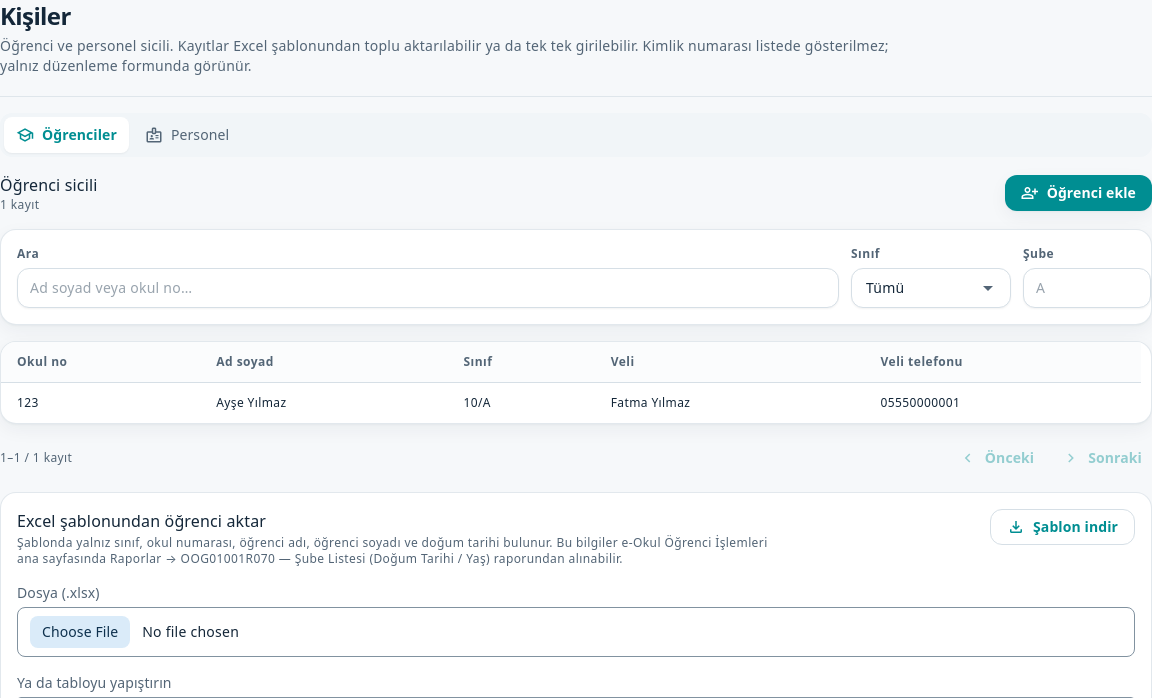
Test: KisilerPage — öğrenci ekleme/düzenleme/silme › satıra tıklama düzenleme formunu açar; TCKN yalnız burada görünür
expect the text "Ayşe Yılmaz" is shown: met, box left=200, top=382, right=447, bottom=423
Click the button with aria-label "Ayşe Yılmaz kaydını düzenle": [251, 402] box left=1, top=382, right=1141, bottom=423
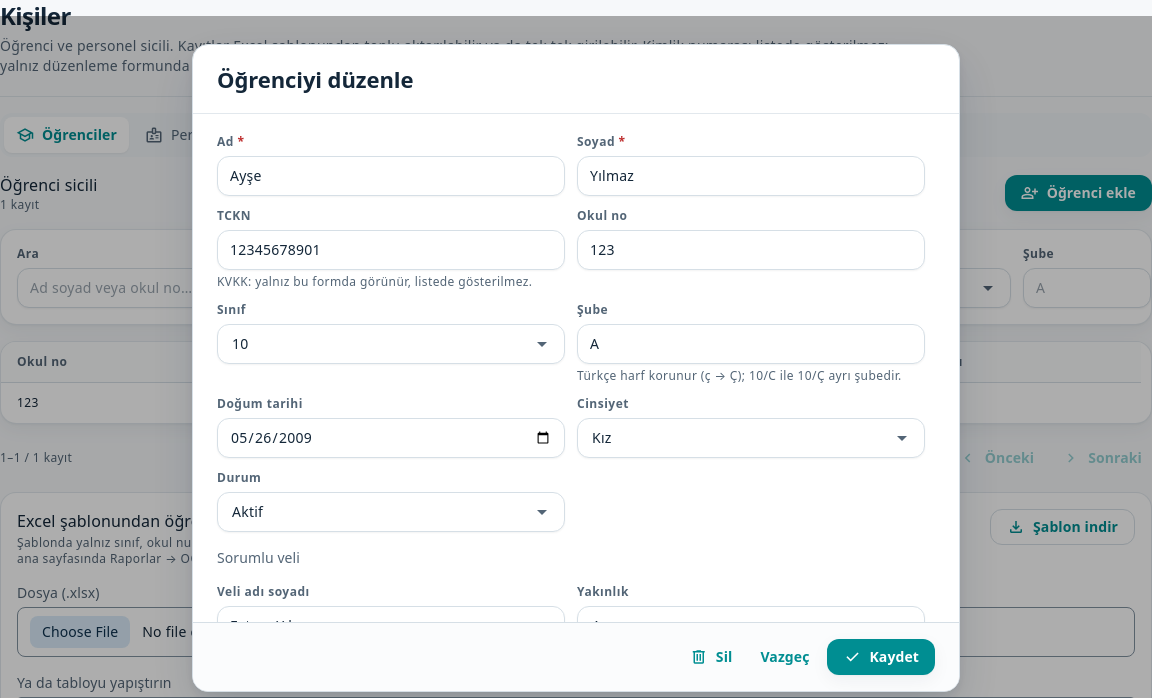
expect the field labelled "TCKN" holds "12345678901": met, box left=230, top=240, right=552, bottom=260
